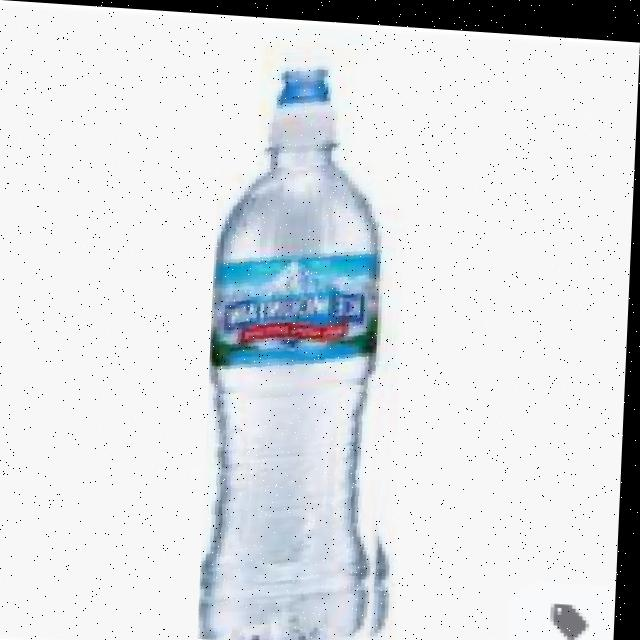litter: (203, 35, 418, 640)
